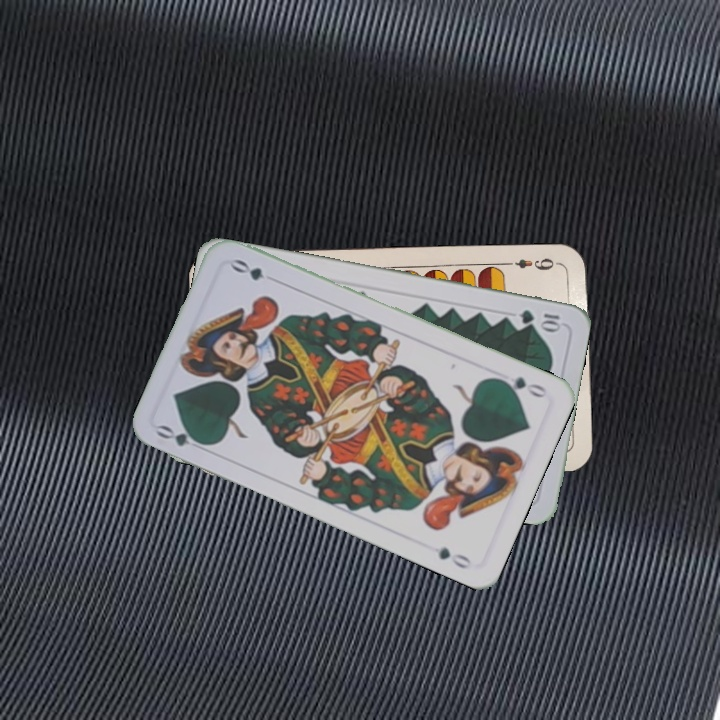E9: (503, 254, 563, 273)
G10: (516, 305, 565, 332)
GO: (152, 420, 212, 454), (492, 372, 549, 401)
